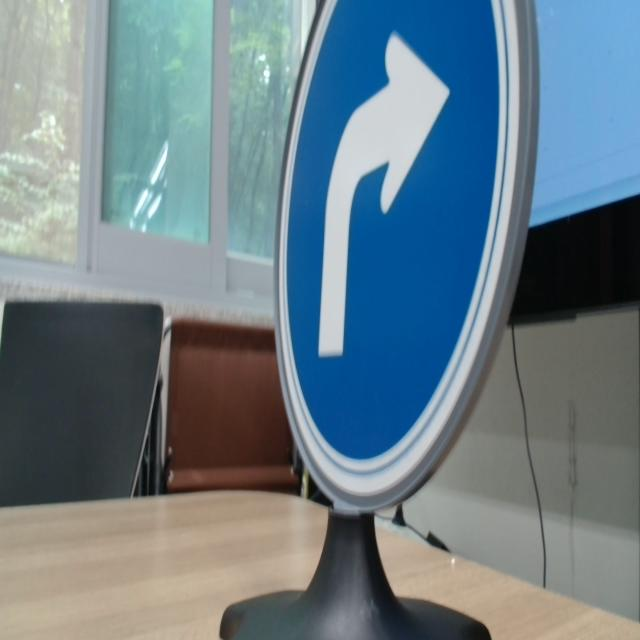right_dierection: (258, 0, 540, 505)
